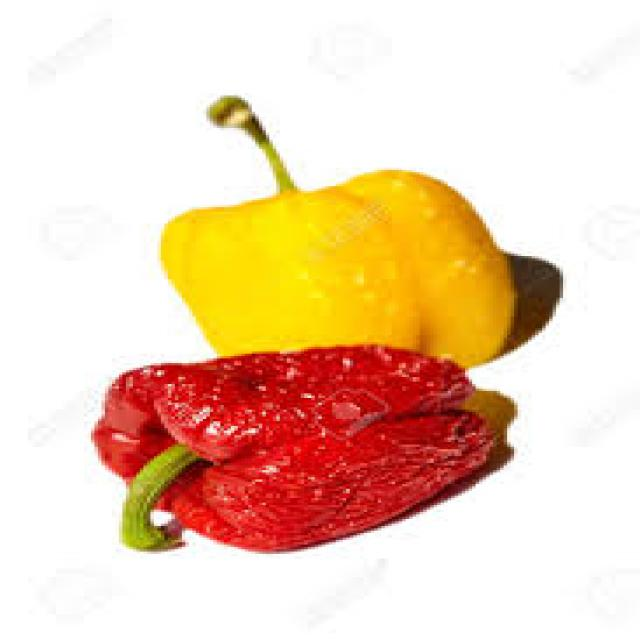organic waste: (157, 93, 514, 368), (84, 340, 497, 547)
